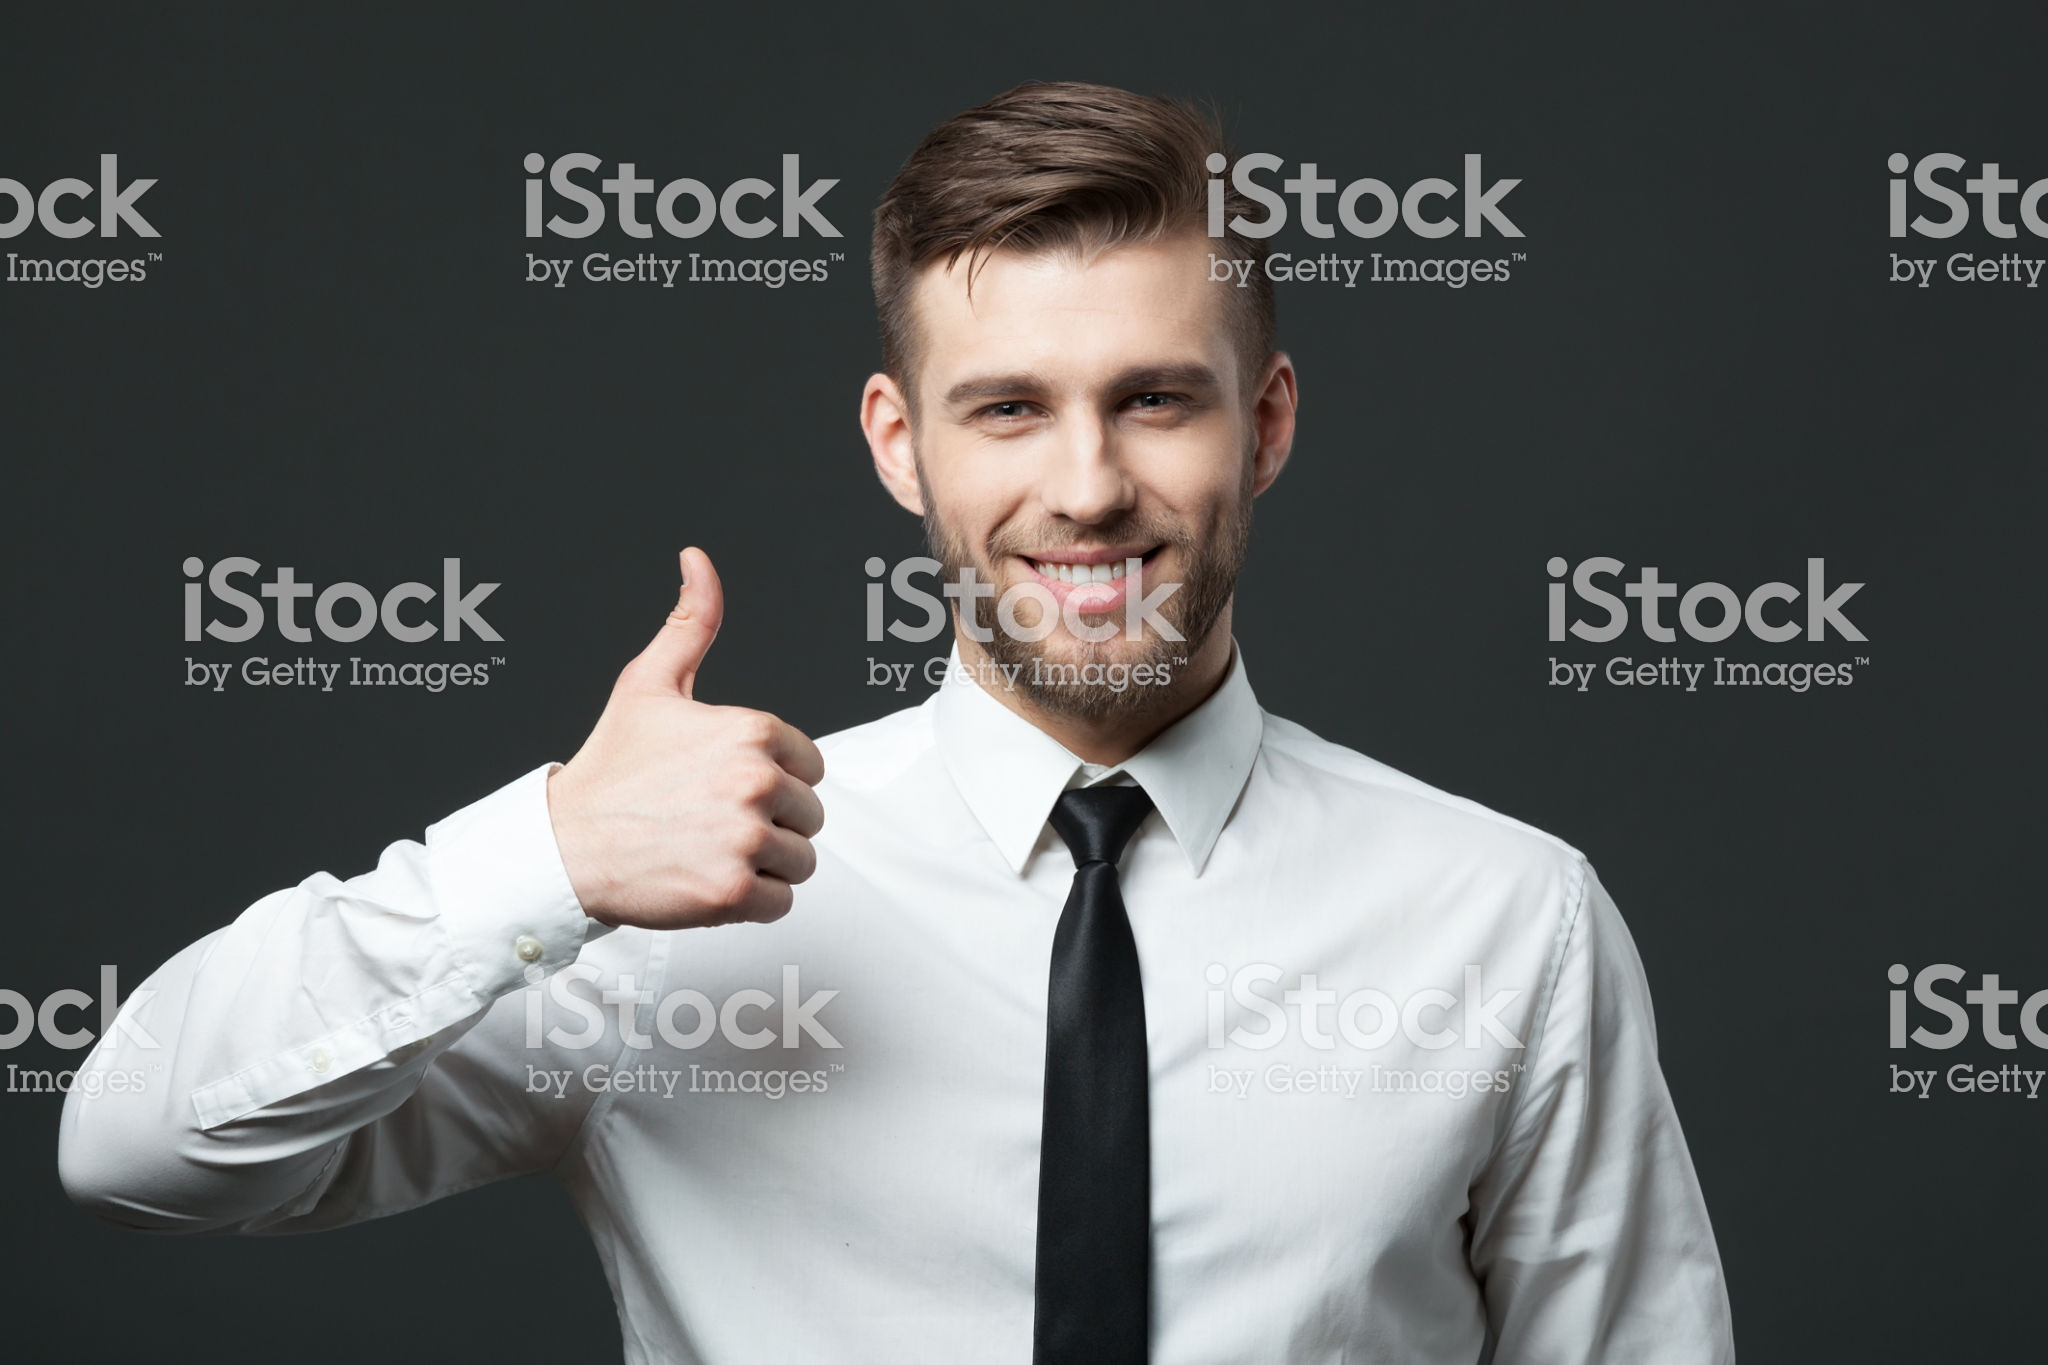thumbsup: (582, 541, 828, 932)
